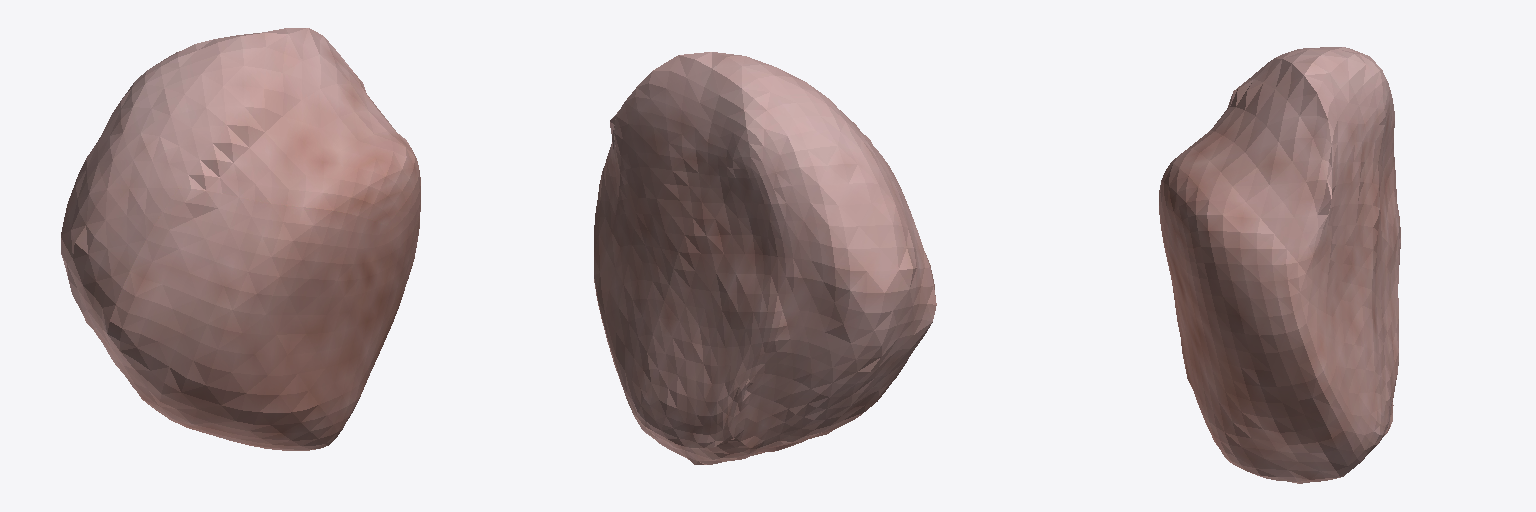
3 views of the same model, side by side, from view 1: azimuth 30°, elevation 25°; view 2: azimuth 150°, elevation 25°; view 3: azimuth 270°, elevation 25° (orthographic).
Visible parts, largest first — view 1: Group47983; view 2: Group47983; view 3: Group47983.
Part boxes in pixels (x1,y1,x2,y2): Group47983: (61, 28, 420, 450); Group47983: (594, 52, 936, 464); Group47983: (1159, 47, 1400, 483).
Size of the model in its own units: 0.4042 by 0.4854 by 0.2596.
1 materials, 1 textured.